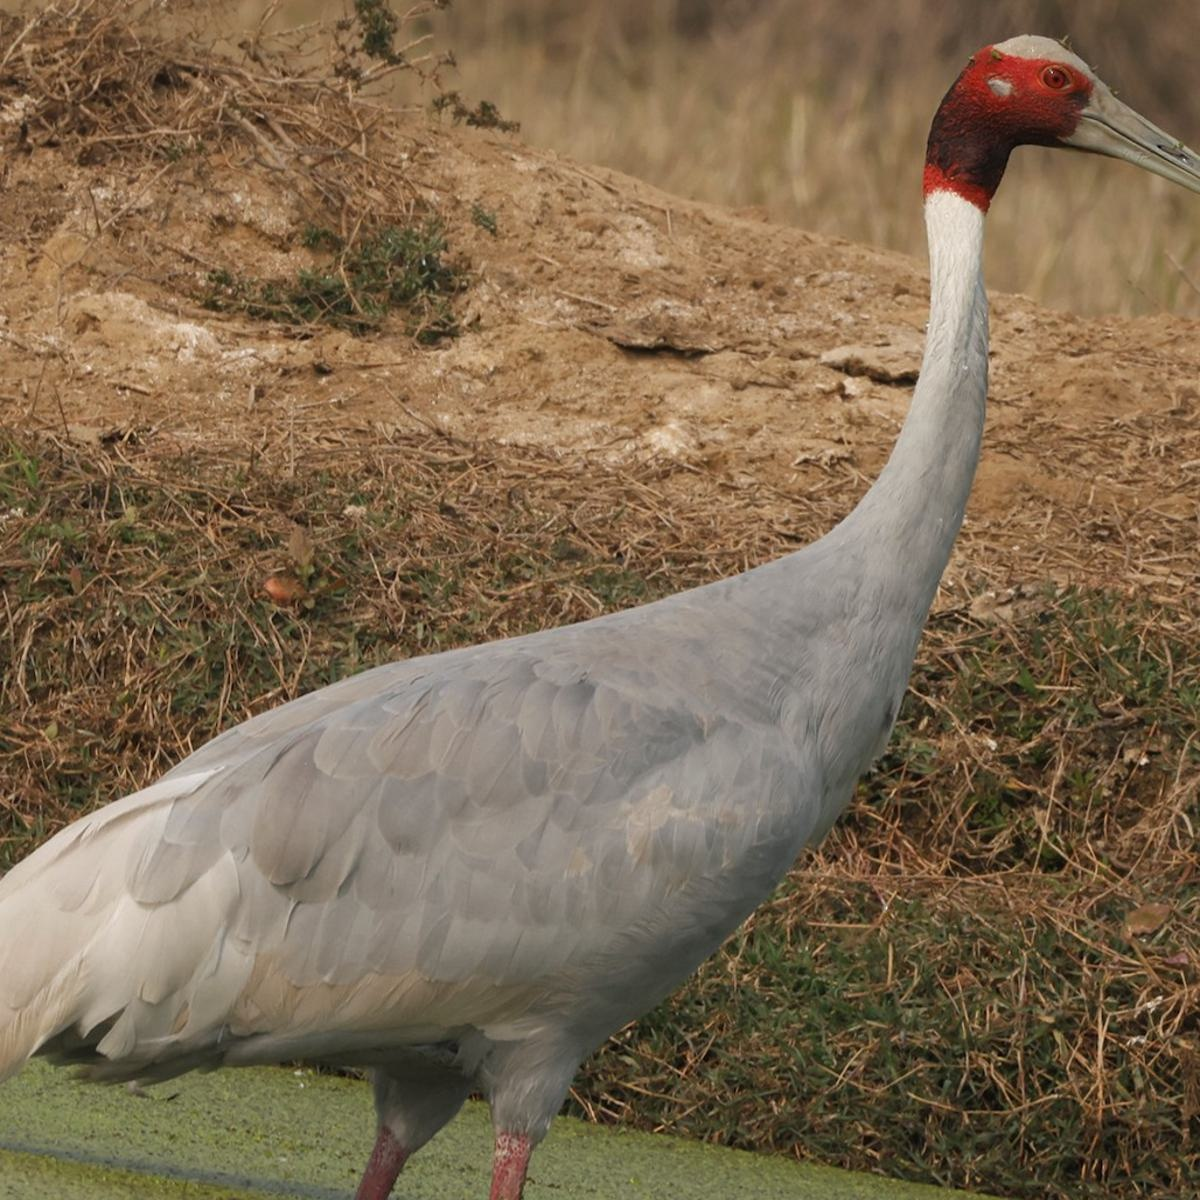crane: (1, 21, 1197, 1200)
